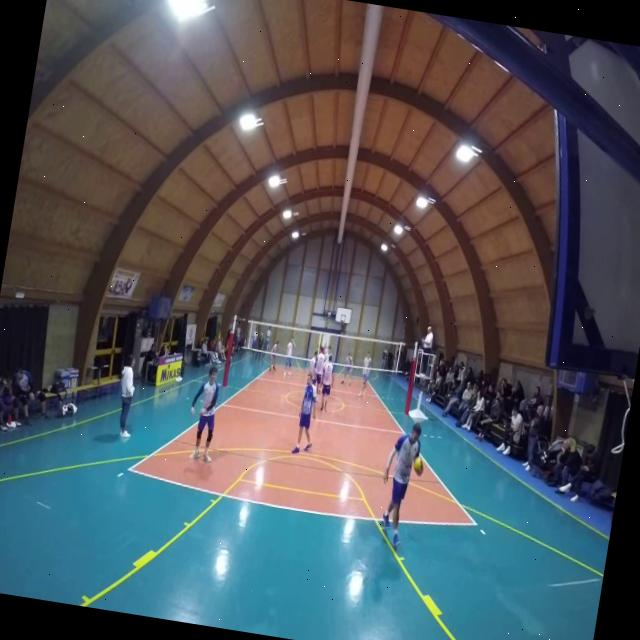Volleyball: (412, 452, 426, 480)
serve: (375, 408, 430, 552)
